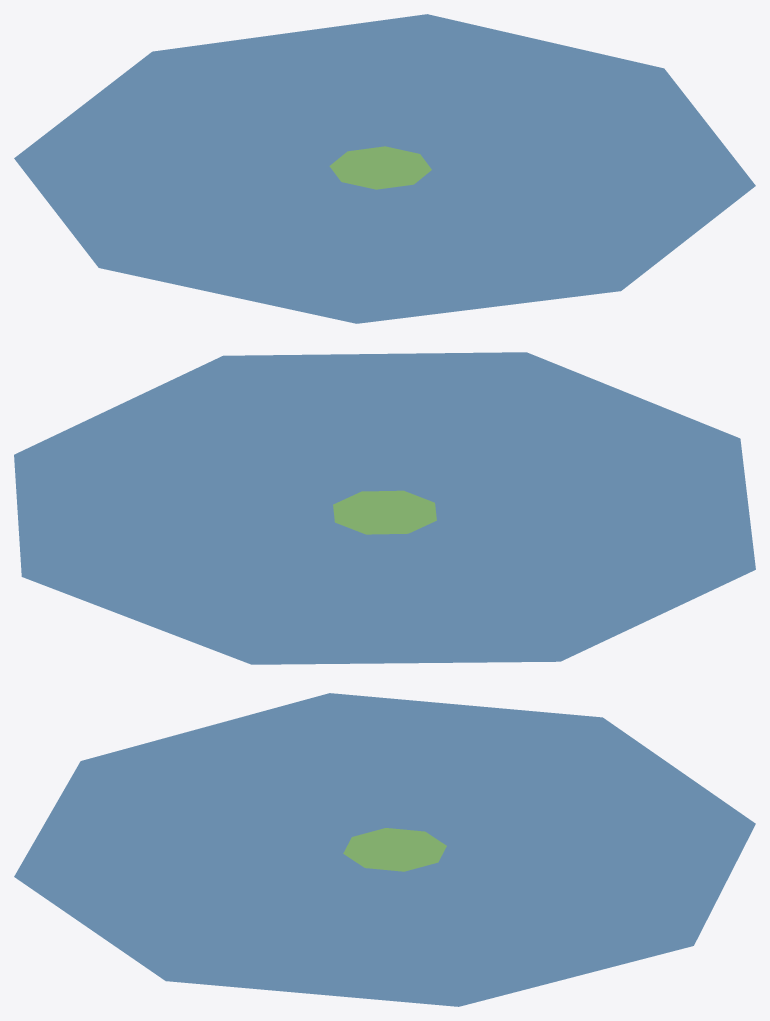
The model's file is cluster2.fbx.
3 renders of one model, top to bottom at view 1: azimuth 30°, elevation 25°; view 2: azimuth 150°, elevation 25°; view 3: azimuth 270°, elevation 25°, orthographic. The views are drawn at different scales.
Parts seen in each view (by area): view 1: cluster2; view 2: cluster2; view 3: cluster2.
Part boxes in pixels (x1,y1,x2,y2): cluster2: (14, 14, 755, 323); cluster2: (14, 352, 755, 664); cluster2: (14, 693, 755, 1006).
Bounding box in the file's own units: 2.67e+07 × 4.35 × 2.67e+07.
